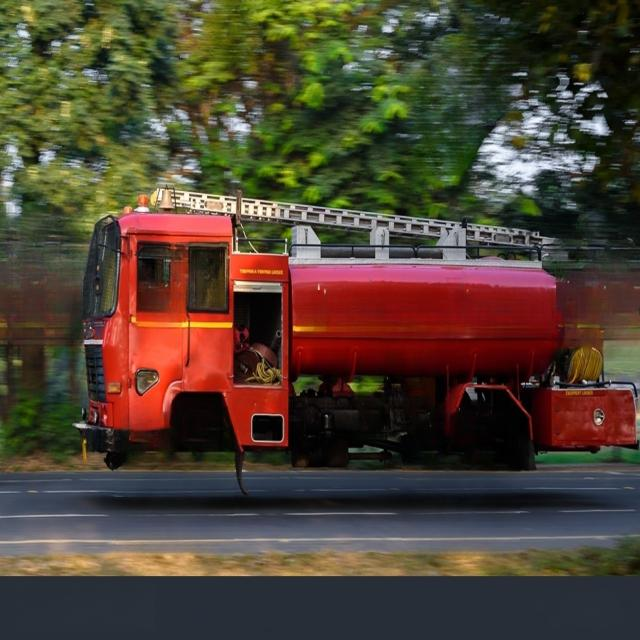emergency: (75, 185, 636, 487)
